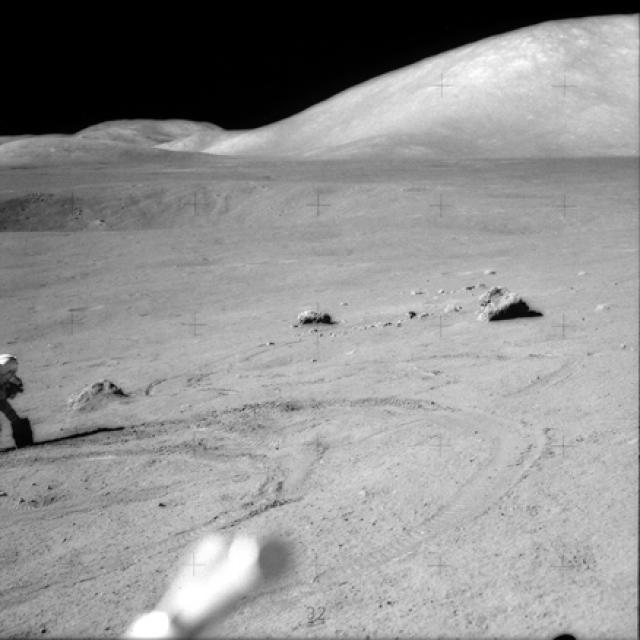artifact: (0, 352, 47, 452)
crater: (1, 171, 432, 235), (449, 208, 594, 235)
rock: (68, 373, 136, 410), (290, 295, 343, 332), (478, 294, 536, 323)
